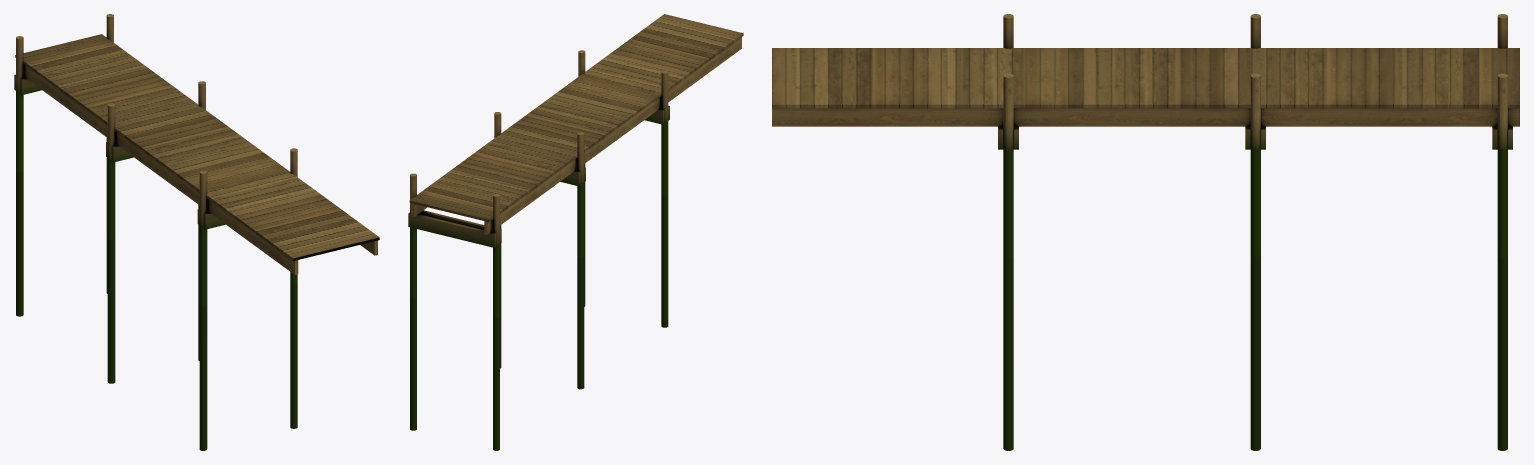
Rendered from puerto.fbx.
3 renders of one model, left to right at view 1: azimuth 30°, elevation 25°; view 2: azimuth 150°, elevation 25°; view 3: azimuth 270°, elevation 25°, orthographic. The views are drawn at different scales.
Visible parts, largest first — view 1: Puerto, Puerto.001; view 2: Puerto, Puerto.001; view 3: Puerto, Puerto.001.
Part boxes in pixels (bbox=[...]): Puerto: bbox=[15, 34, 379, 274]; Puerto.001: bbox=[14, 14, 297, 450]; Puerto: bbox=[409, 14, 743, 234]; Puerto.001: bbox=[408, 50, 669, 450]; Puerto: bbox=[772, 48, 1519, 126]; Puerto.001: bbox=[998, 14, 1512, 450].
Size of the model in its own units: 565 by 1540 by 2797.
Materials: 1 (1 with a texture image).
